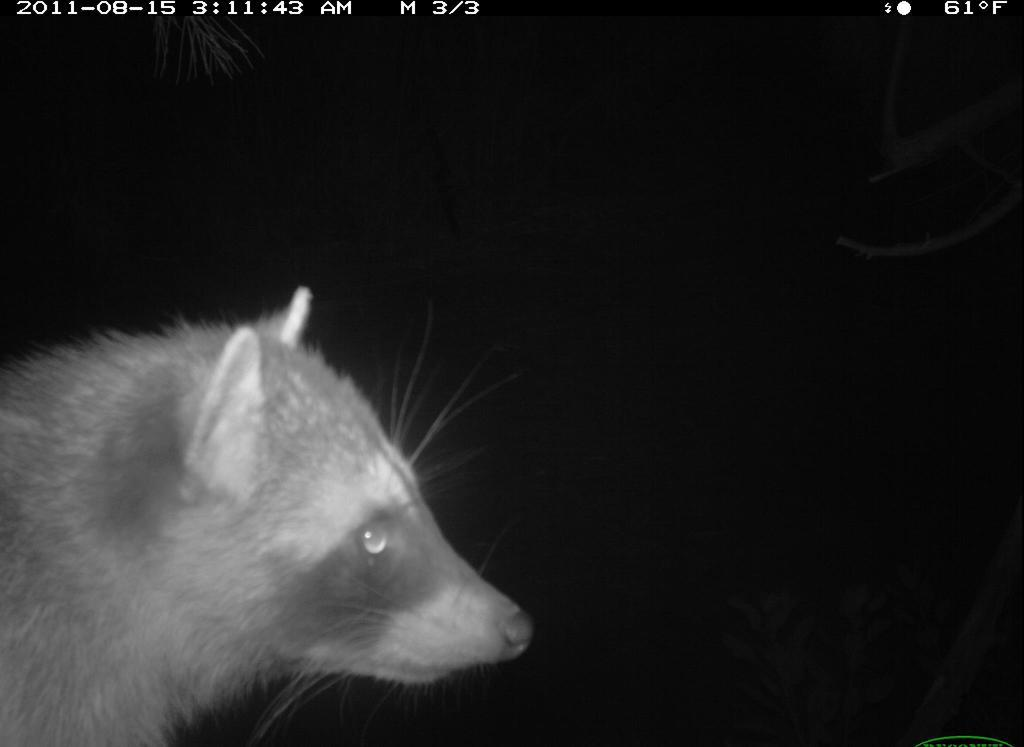raccoon: (6, 255, 587, 744)
